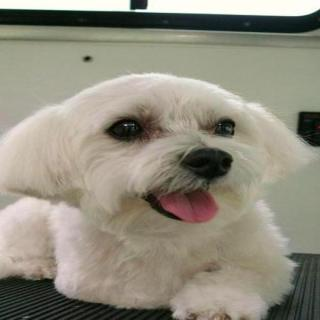dog: (14, 78, 307, 244)
nose: (176, 139, 238, 188)
